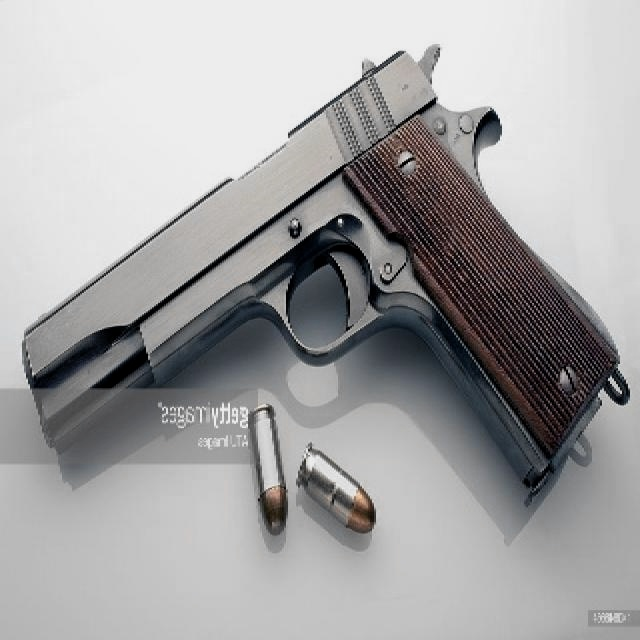gun: (20, 35, 636, 500)
